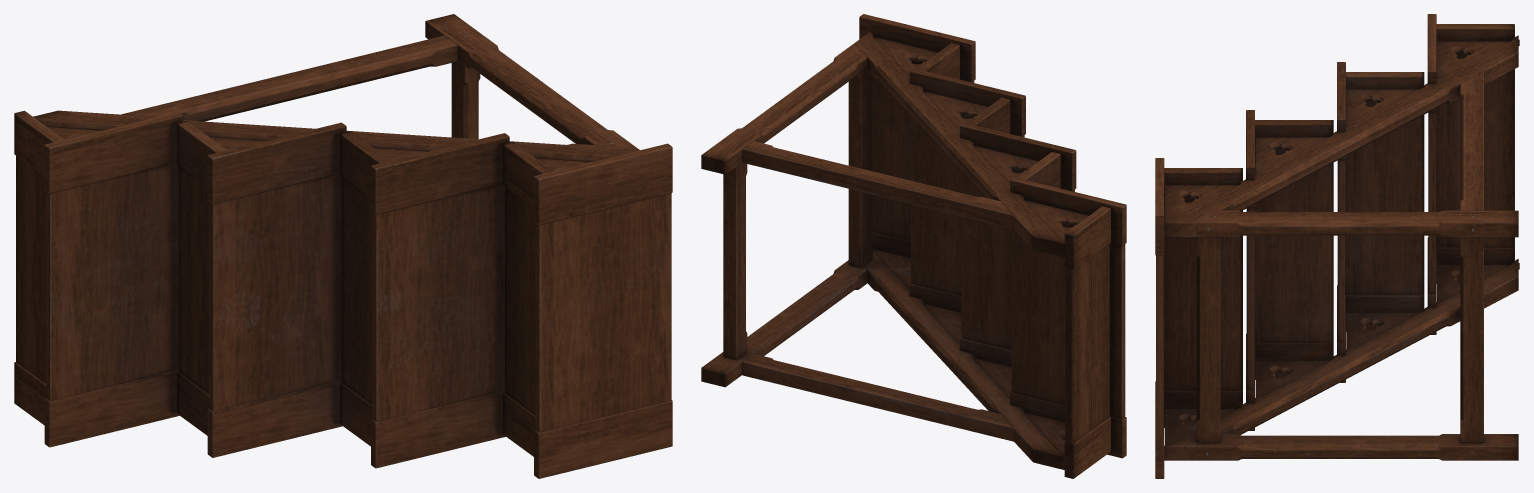
The model's file is stairs.glb.
3 views of the same model, side by side, from view 1: azimuth 30°, elevation 25°; view 2: azimuth 150°, elevation 25°; view 3: azimuth 270°, elevation 25° (orthographic). The views are drawn at different scales.
Parts seen in each view (by area): view 1: Steps, Sidewalls, Frame, Sidewalls_s; view 2: Frame, Steps, Sidewalls, Sidewalls_s; view 3: Sidewalls, Frame, Sidewalls_s, Steps.
Boxes of the visible parts, left/top/right/bottom form: Steps: left=44, top=112, right=672, bottom=478; Sidewalls: left=14, top=110, right=553, bottom=456; Frame: left=33, top=14, right=639, bottom=161; Sidewalls_s: left=47, top=127, right=591, bottom=171; Frame: left=701, top=32, right=1067, bottom=470; Steps: left=859, top=14, right=1126, bottom=458; Sidewalls: left=916, top=43, right=1110, bottom=478; Sidewalls_s: left=873, top=37, right=1088, bottom=466; Sidewalls: left=1163, top=24, right=1514, bottom=427; Frame: left=1164, top=35, right=1518, bottom=460; Sidewalls_s: left=1165, top=39, right=1519, bottom=445; Steps: left=1155, top=14, right=1436, bottom=478.
Size of the model in its own units: 1.06 by 0.65 by 0.8128.
Materials: 1 (1 with a texture image).
